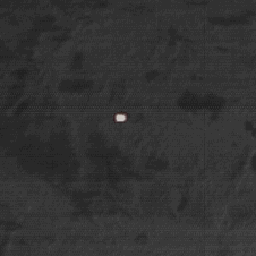Target: (114, 113, 128, 122)
